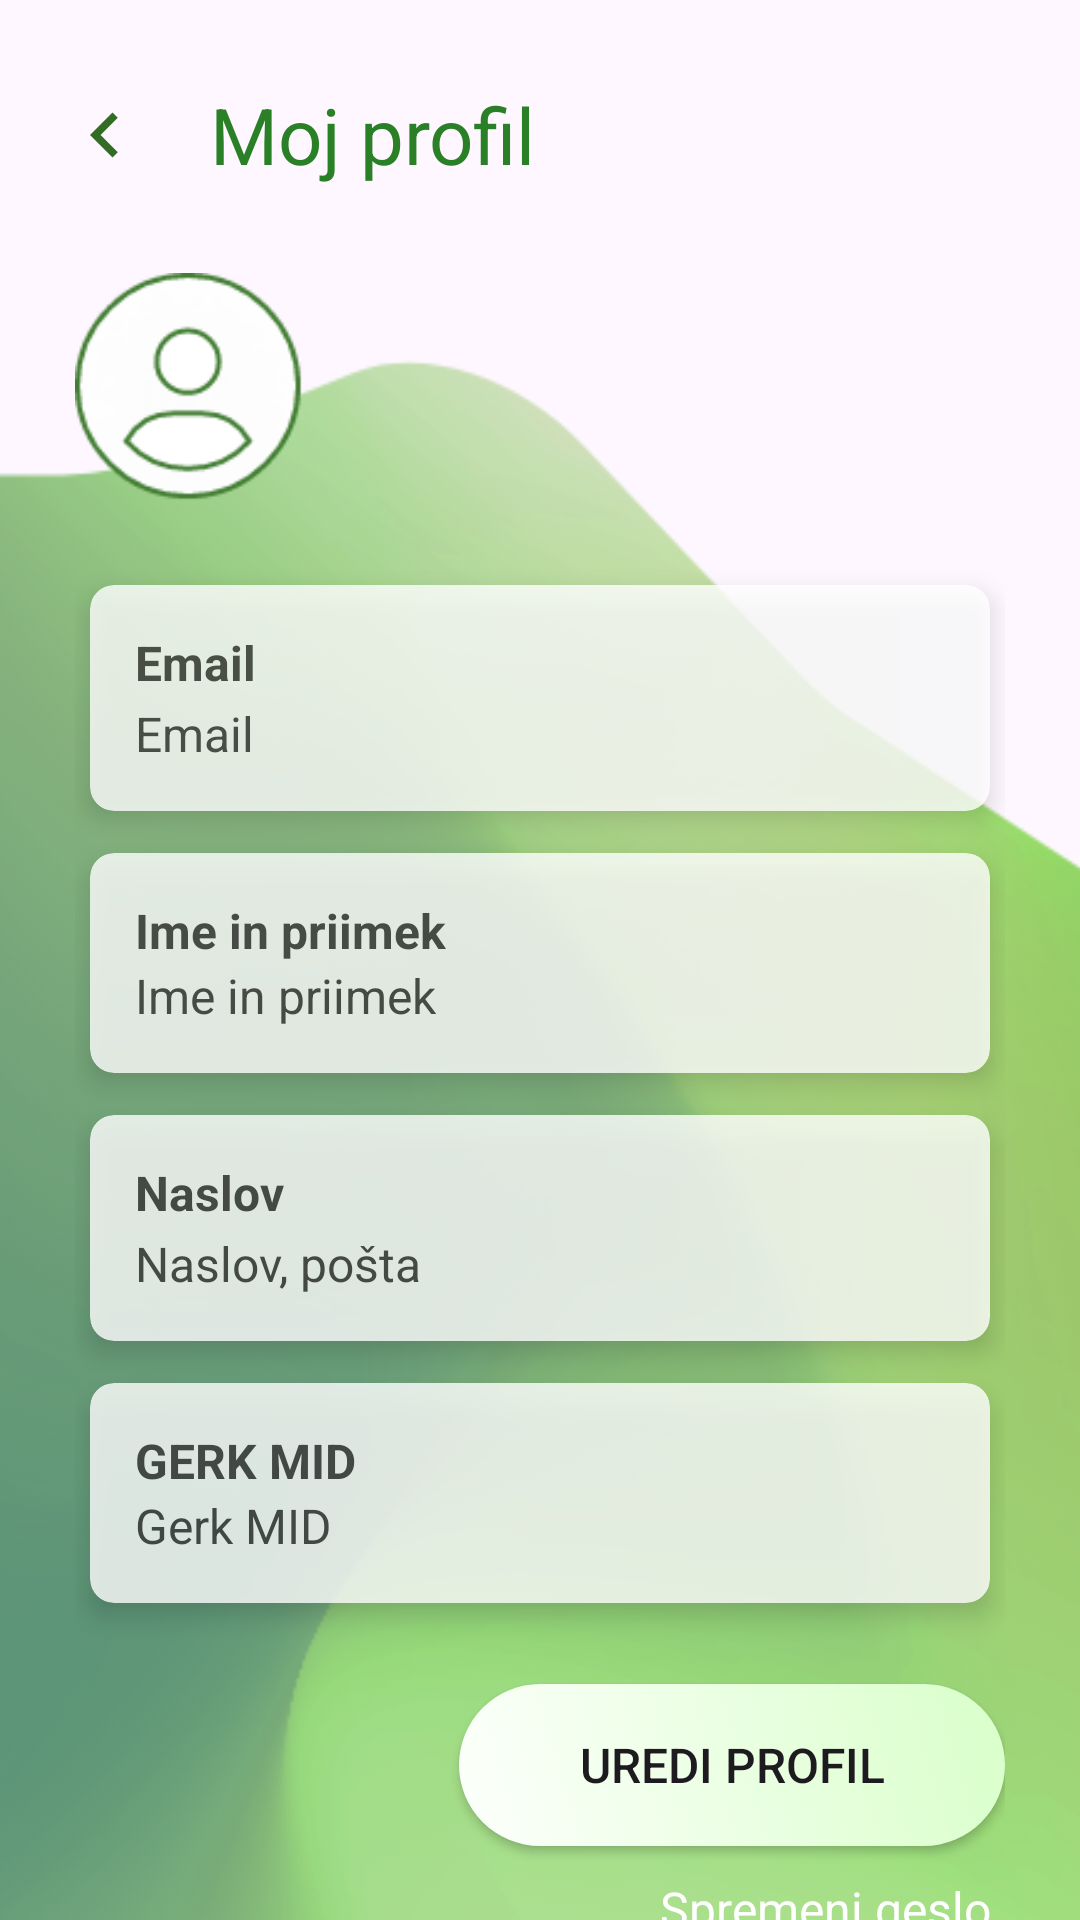

Icon click points for this 1080px×1920px phone screenshot, format (x=x, y=y):
arrow left: (x=104, y=135)
profile: (x=189, y=387)
